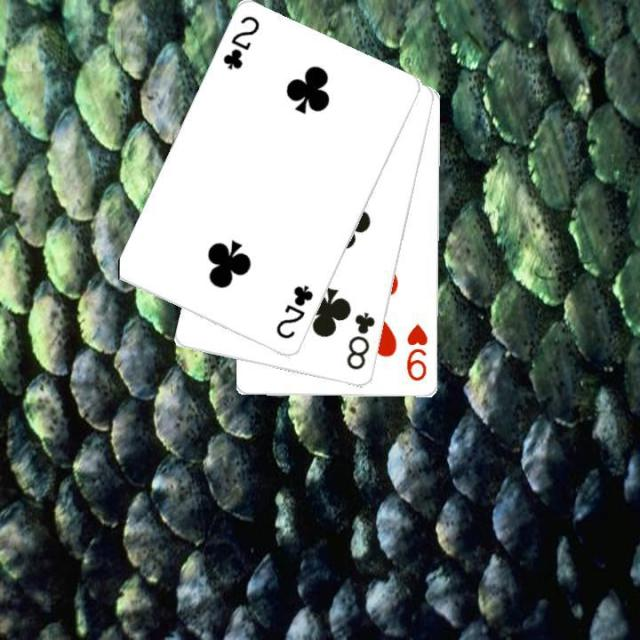2C: (272, 282, 316, 341), (219, 12, 262, 72)
8C: (342, 308, 378, 372)
9H: (404, 321, 430, 384)
